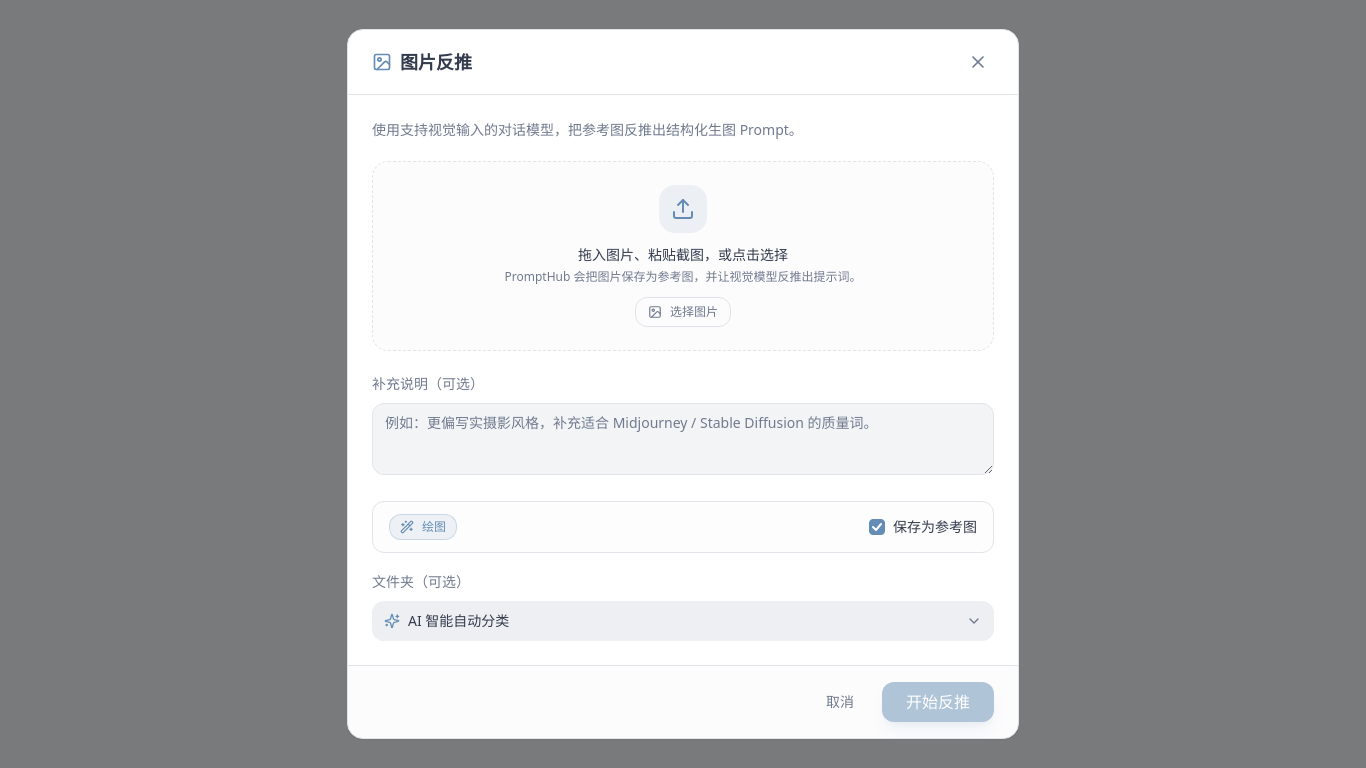
Scenario: ImagePromptReverseModal › shows a parse error when the vision model response is not a prompt draft
Click the text "拖入图片、粘贴截图，或点击选择" at [683, 255], box [578,245,788,265]
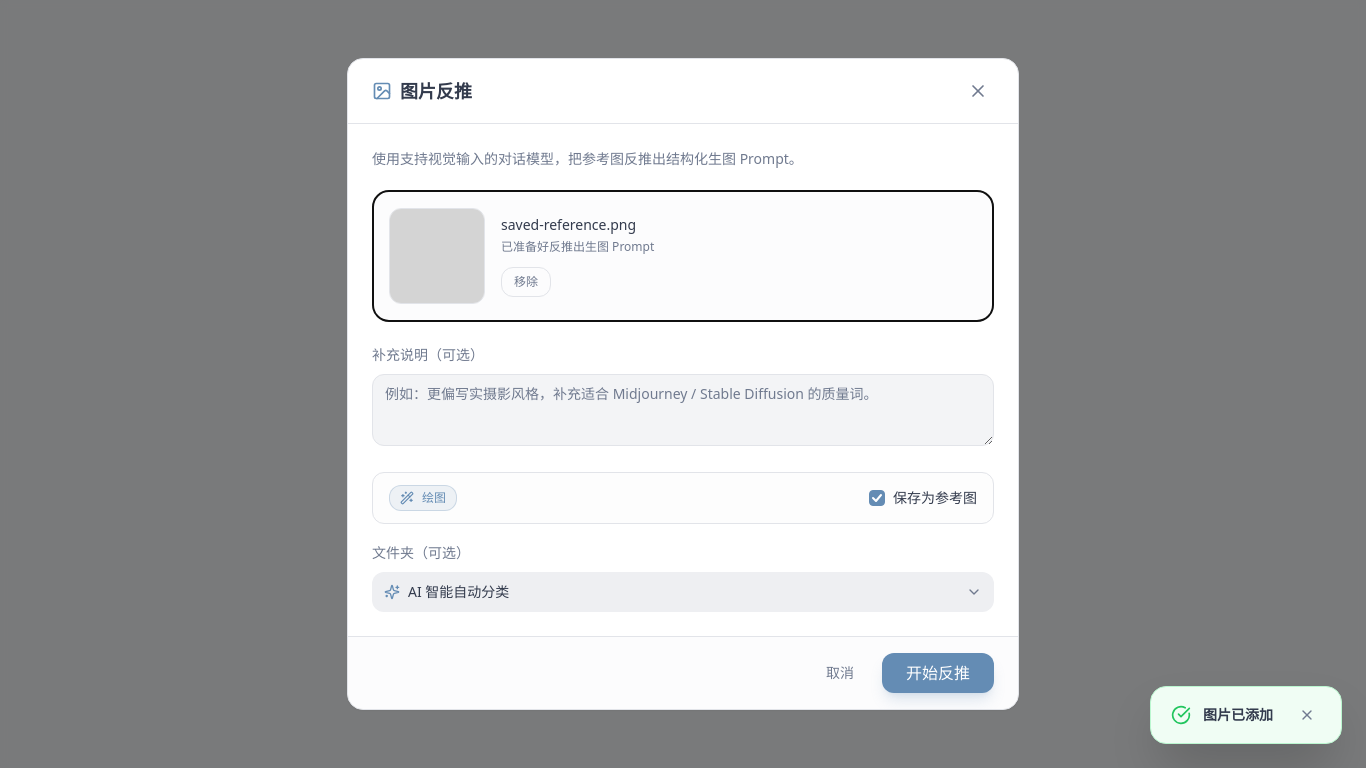
Check: the text "saved-reference.png" is shown, box [501,215,654,235]
Click the button "开始反推" at [938, 673], box [882,653,994,693]
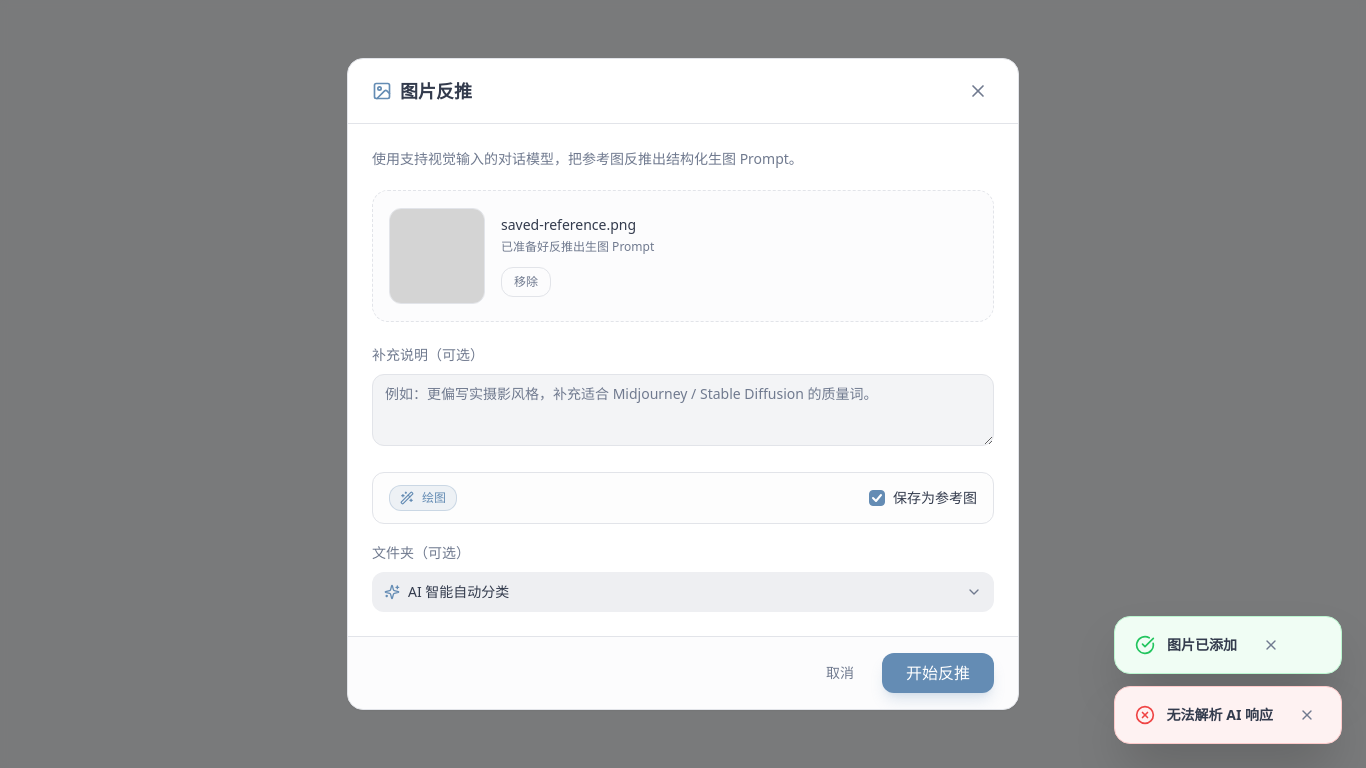
Check: the text "无法解析 AI 响应" is shown, box [1167,705,1273,725]
